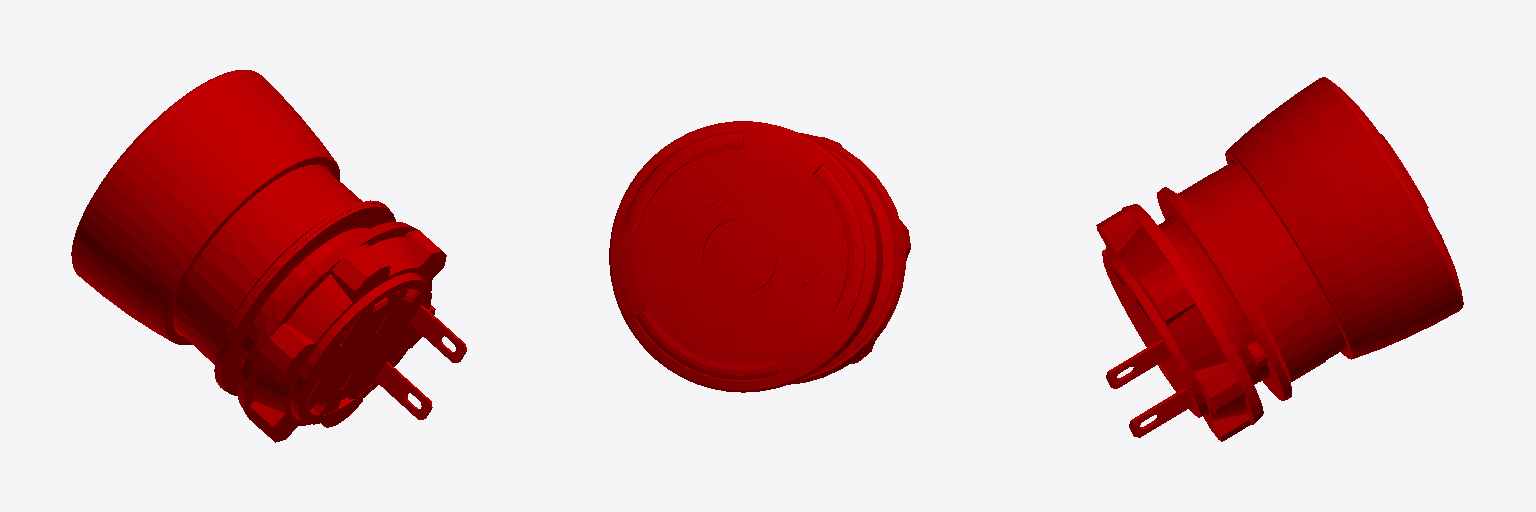
Rendered from estop_link.obj.
3 renders of one model, left to right at view 1: azimuth 30°, elevation 25°; view 2: azimuth 150°, elevation 25°; view 3: azimuth 270°, elevation 25°, orthographic.
Parts seen in each view (by area): view 1: estop_link_estop link.001_Material_001.026; view 2: estop_link_estop link.001_Material_001.026; view 3: estop_link_estop link.001_Material_001.026.
Part boxes in pixels (x1,y1,x2,y2): estop_link_estop link.001_Material_001.026: (71,70,466,442); estop_link_estop link.001_Material_001.026: (609,121,910,392); estop_link_estop link.001_Material_001.026: (1096,77,1463,441).
Bounding box in the file's own units: 0.0387 × 0.0413 × 0.0433.